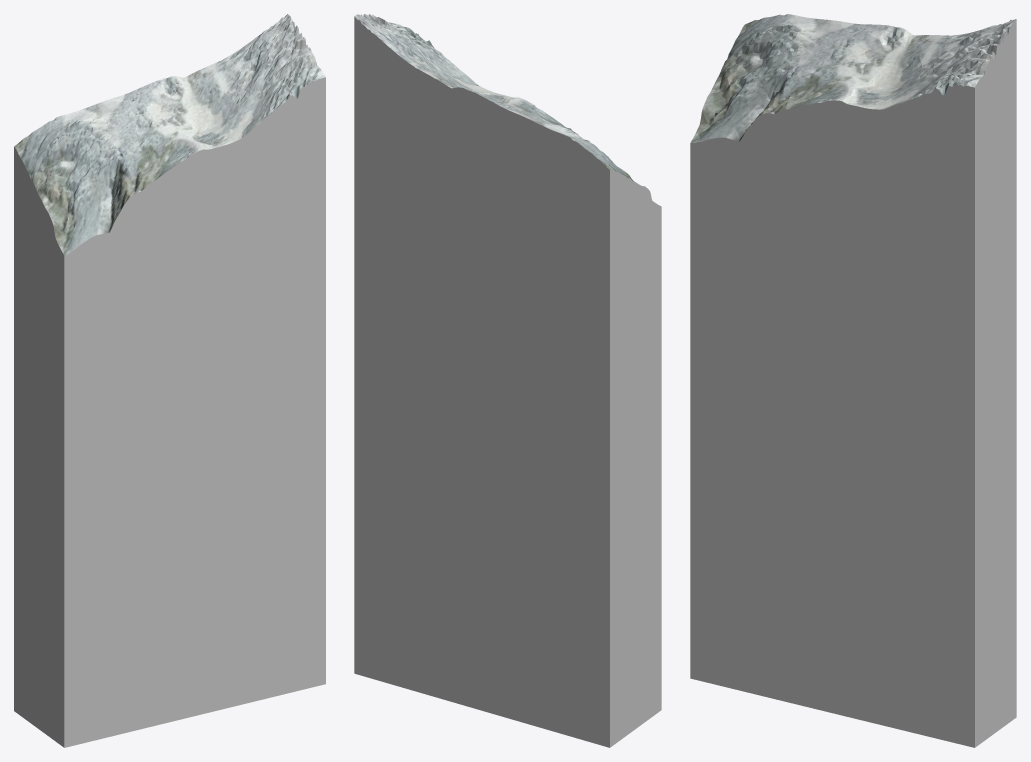
The model's file is GrindScene1.gltf.
The picture shows the model from 3 angles, left to right: view 1: azimuth 30°, elevation 25°; view 2: azimuth 150°, elevation 25°; view 3: azimuth 330°, elevation 25°; orthographic projection. The views are drawn at different scales.
Visible parts, largest first — view 1: Plane; view 2: Plane; view 3: Plane.
Part boxes in pixels (left/top/right/bottom): Plane: left=14, top=14, right=325, bottom=747; Plane: left=354, top=14, right=661, bottom=747; Plane: left=690, top=14, right=1016, bottom=747.
Size of the model in its own units: 0.6 by 1.41 by 0.2003.
Materials: 2 (1 with a texture image).
